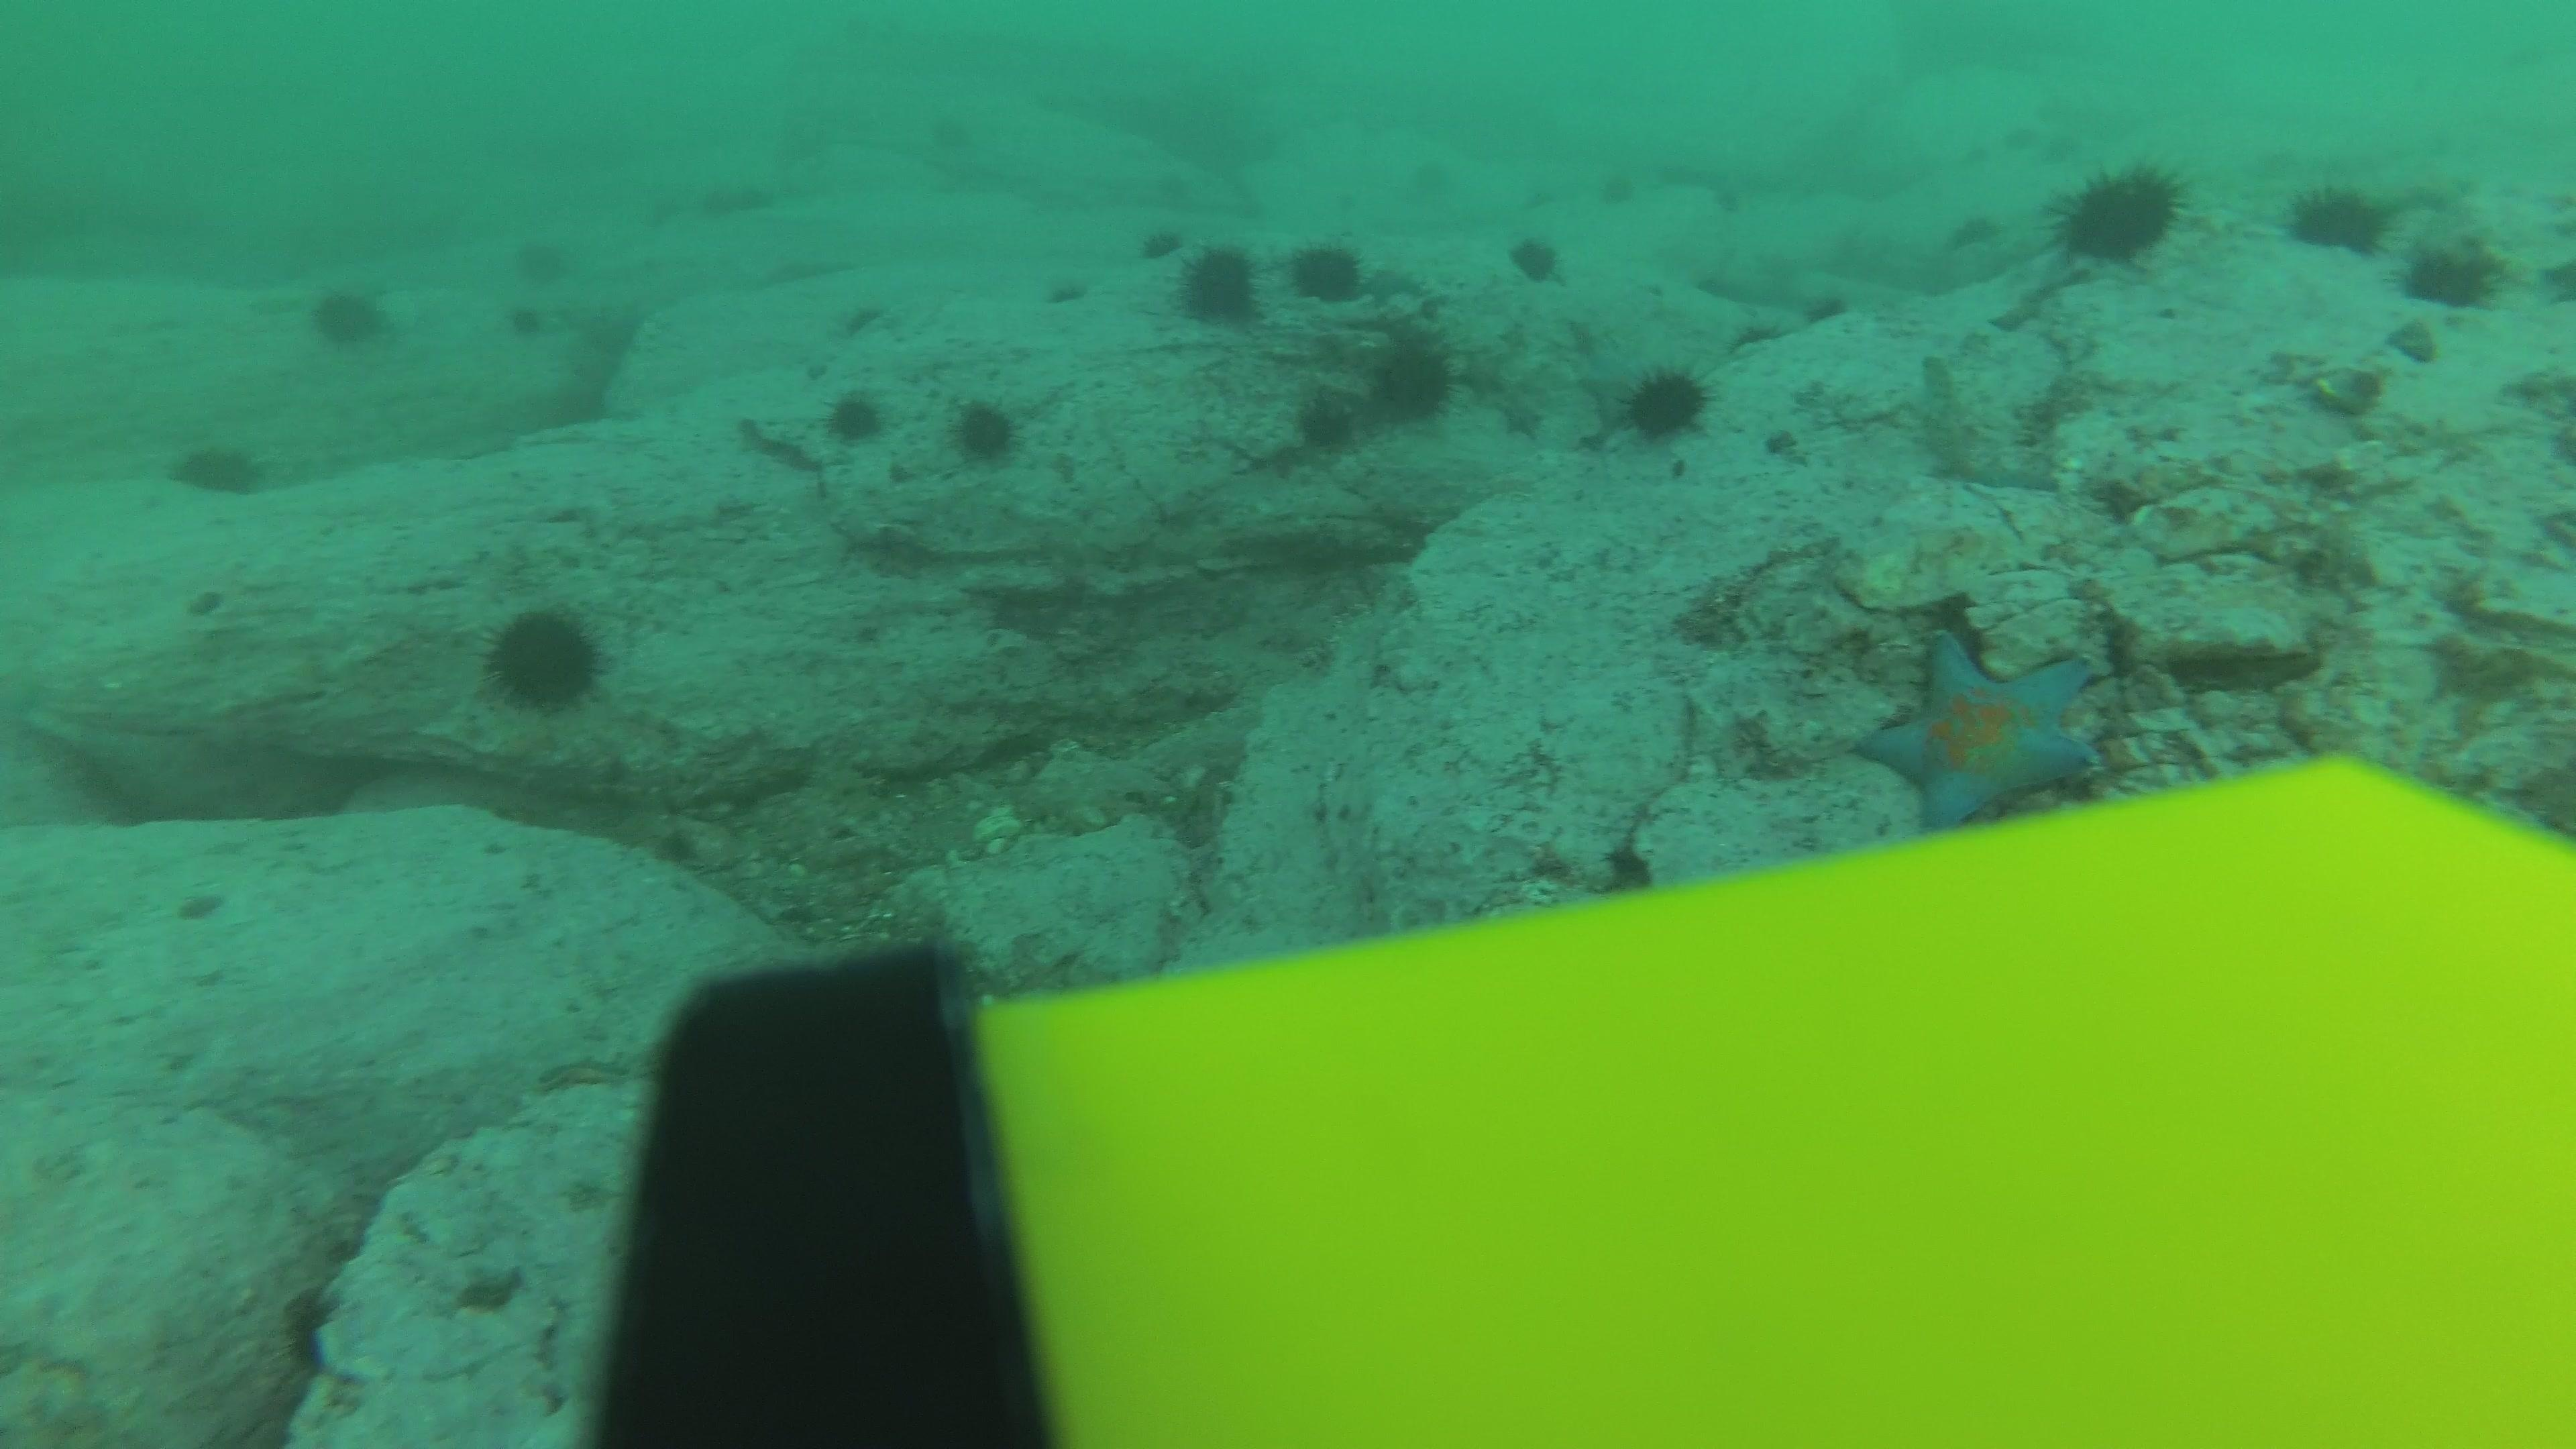echinus: (2049, 156, 2187, 269), (479, 602, 609, 717), (1614, 359, 1716, 449), (1362, 331, 1458, 426), (2397, 230, 2503, 313), (2286, 177, 2390, 260), (1171, 239, 1263, 331), (168, 433, 267, 502), (304, 278, 391, 354), (947, 393, 1024, 467), (1290, 235, 1369, 306), (1292, 389, 1362, 456), (821, 384, 888, 448), (1507, 228, 1564, 287), (1796, 287, 1856, 334), (1723, 313, 1783, 359), (1946, 218, 2005, 264), (513, 237, 566, 285), (840, 304, 888, 341), (1035, 280, 1083, 317), (1139, 226, 1187, 264), (927, 117, 975, 154), (1154, 168, 1200, 205), (510, 303, 543, 338), (704, 186, 740, 219), (2003, 124, 2040, 156), (2047, 138, 2084, 170), (1601, 175, 1640, 205), (1412, 161, 1451, 191), (1522, 186, 1562, 214), (740, 184, 775, 216), (649, 196, 681, 226), (1966, 142, 1994, 165), (1711, 186, 1739, 209), (1679, 170, 1706, 189), (1339, 189, 1362, 211), (1658, 165, 1683, 184)
starfish: (1851, 626, 2111, 830), (531, 1049, 633, 1099), (1361, 258, 1428, 308), (1495, 389, 1548, 442)
